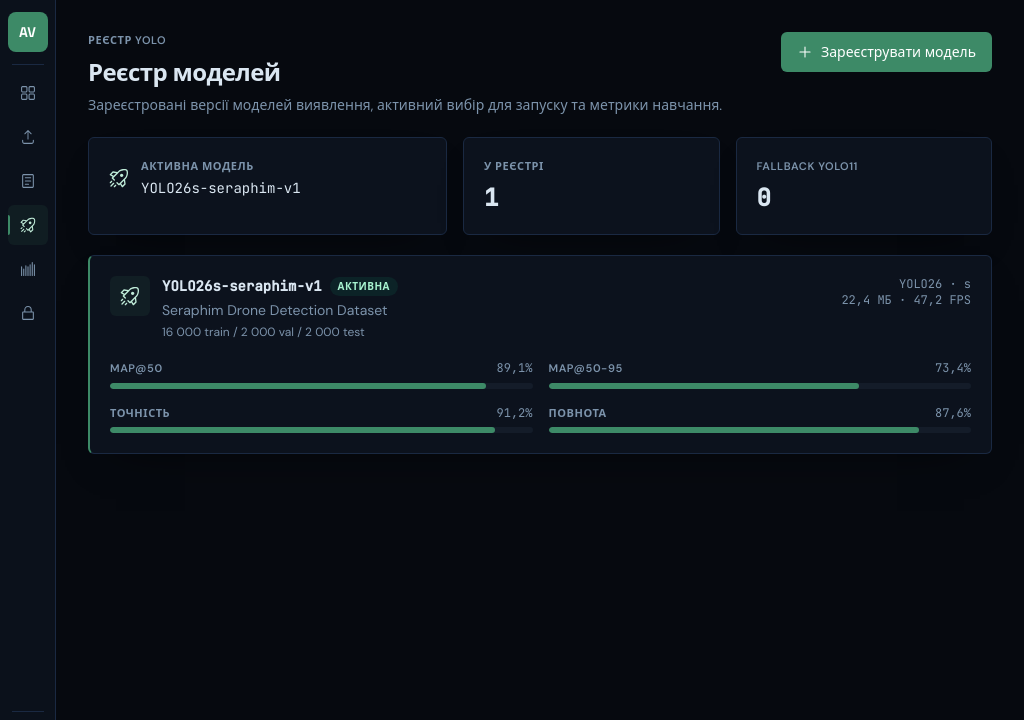
Test case: Phase 28 models page › blocks unsafe admin weights paths before submit
Expected: the heading "Реєстр моделей" is shown, [88, 56, 280, 88]
Click the button "Зареєструвати модель" at (886, 52), box [781, 32, 992, 72]
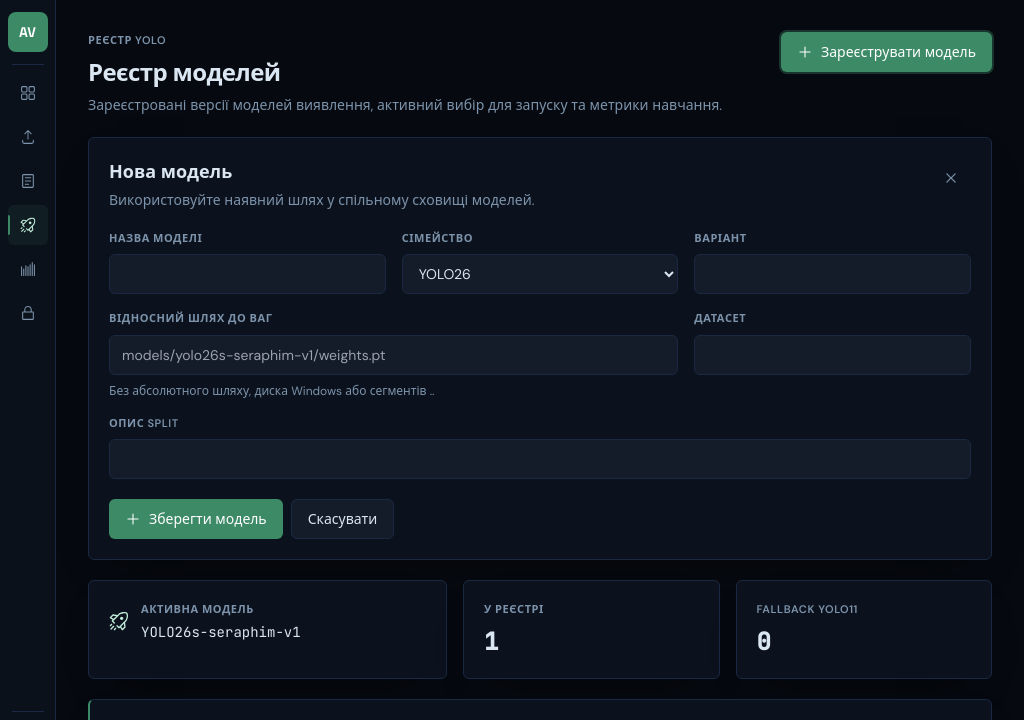
Type "YOLO26s-bad" into the field labelled "Назва моделі" at (247, 274), box [109, 254, 386, 294]
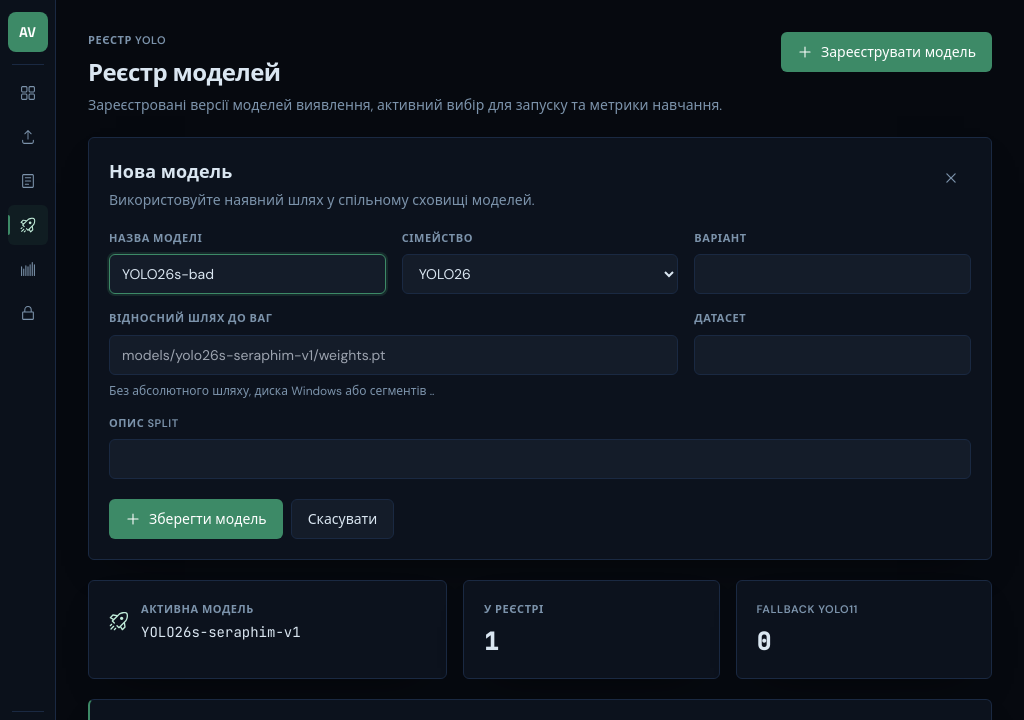
Type "s" into the field labelled "Варіант" at (833, 274), box [694, 254, 971, 294]
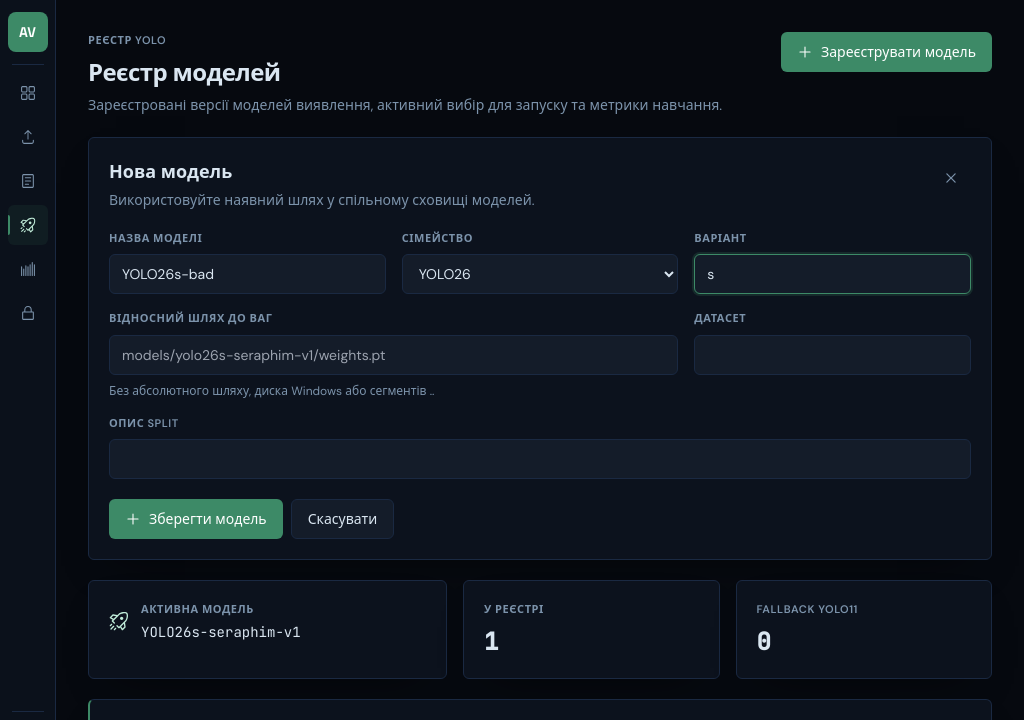
Type "/app/storage/models/bad.pt" into the field labelled "Відносний шлях до ваг" at (394, 354), box [109, 334, 678, 374]
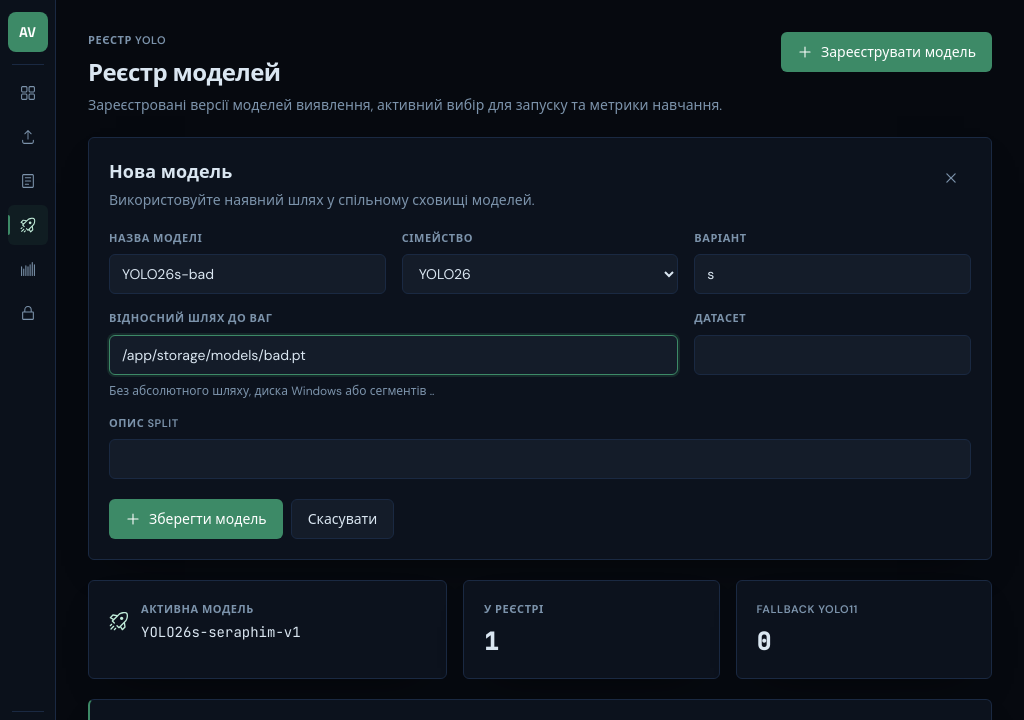
Click the button "Зберегти модель" at (196, 519), box [109, 499, 283, 539]
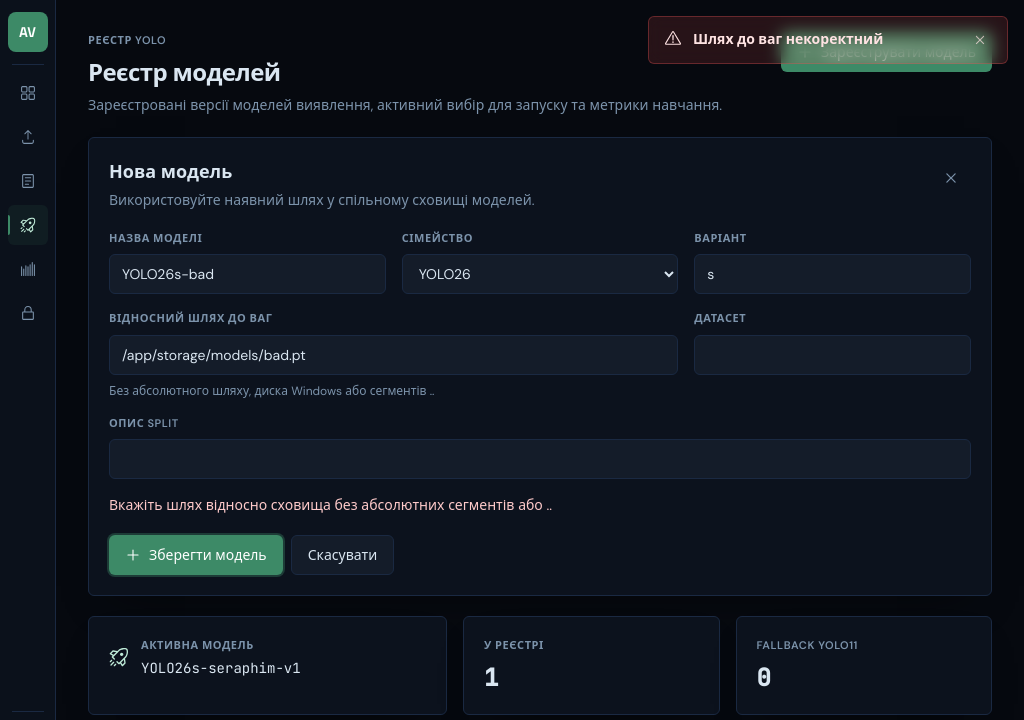
Now the text "Вкажіть шлях відносно сховища без абсолютних сегментів або .." is shown, box [109, 496, 552, 514]
